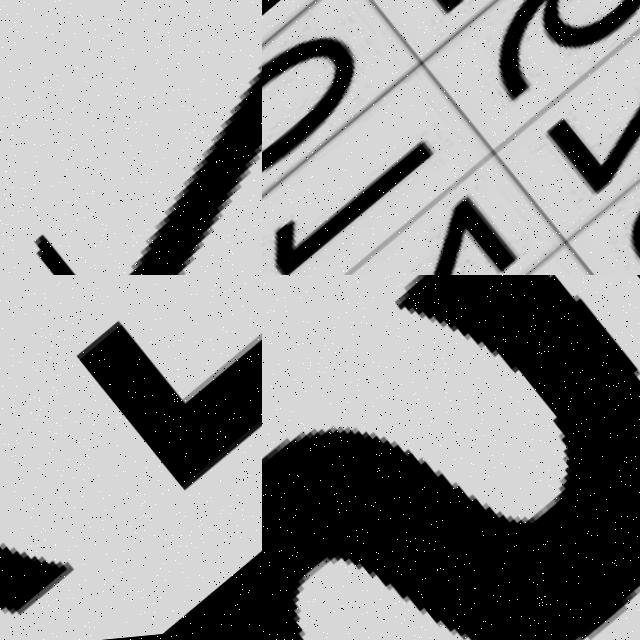0: (262, 11, 375, 216)
1: (0, 0, 262, 275), (262, 116, 439, 275)
2: (306, 190, 527, 275)
5: (390, 0, 604, 29)
6: (459, 0, 640, 122)
7: (532, 7, 640, 210)
G: (0, 275, 262, 640)
S: (262, 275, 640, 640)
